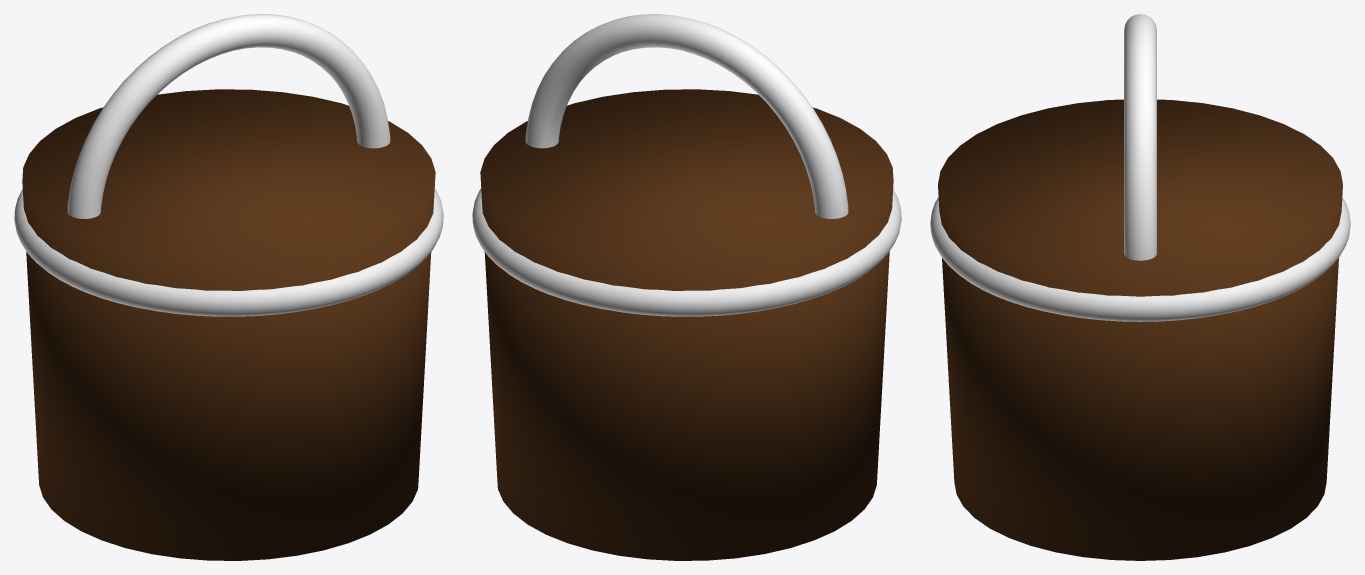
File: wooden-bucket.obj
3 renders of one model, left to right at view 1: azimuth 30°, elevation 25°; view 2: azimuth 150°, elevation 25°; view 3: azimuth 270°, elevation 25°, orthographic. The views are drawn at different scales.
Parts seen in each view (by area): view 1: wooden-bucket; view 2: wooden-bucket; view 3: wooden-bucket.
Boxes of the visible parts, x1,y1,x2,y2 form: wooden-bucket: (14, 14, 443, 560); wooden-bucket: (472, 14, 901, 560); wooden-bucket: (930, 14, 1350, 560).
Bounding box in the file's own units: 0.384 × 0.455 × 0.384.
